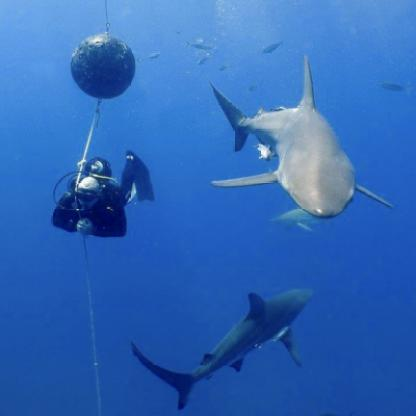shark: (207, 54, 397, 216), (131, 286, 312, 411)
